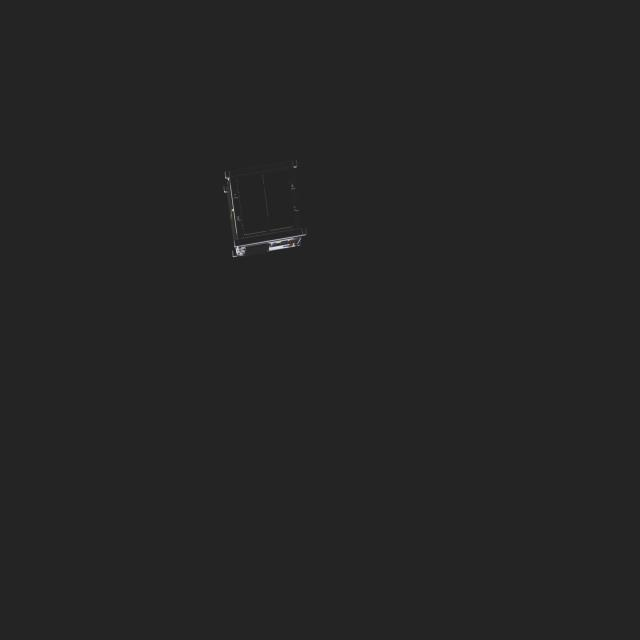medium_debris: (218, 148, 309, 264)
